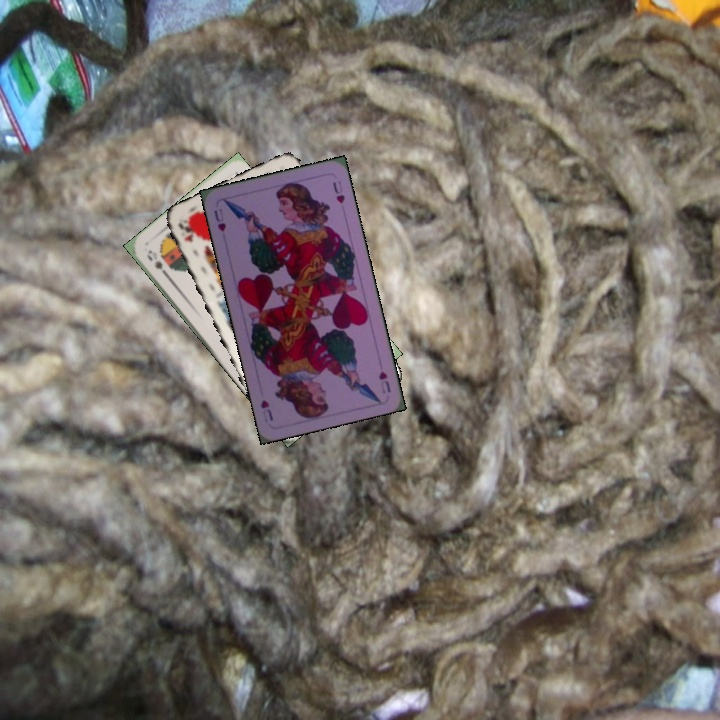HK: (174, 218, 196, 245)
HU: (210, 205, 229, 234), (375, 367, 393, 396)
SO: (142, 246, 172, 281)
